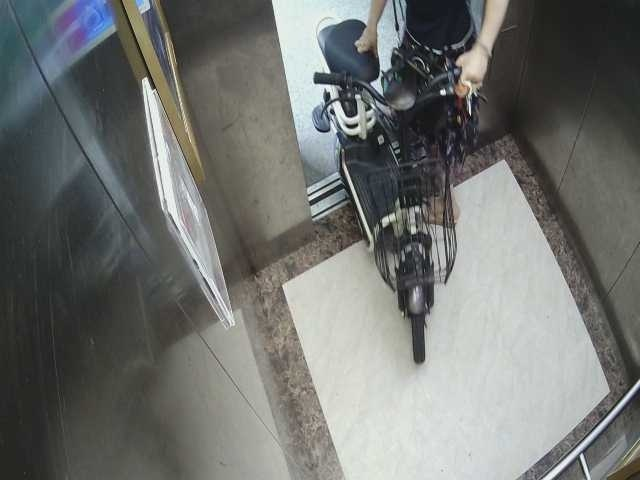emotor: (306, 15, 465, 360)
